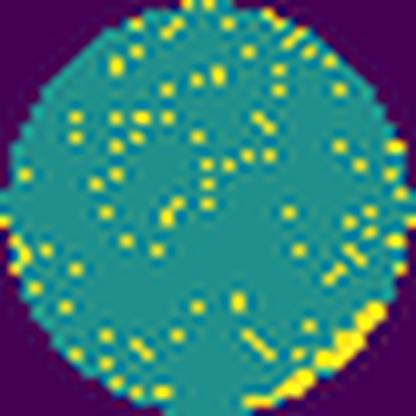Edge-Loc: (244, 297, 390, 410)
